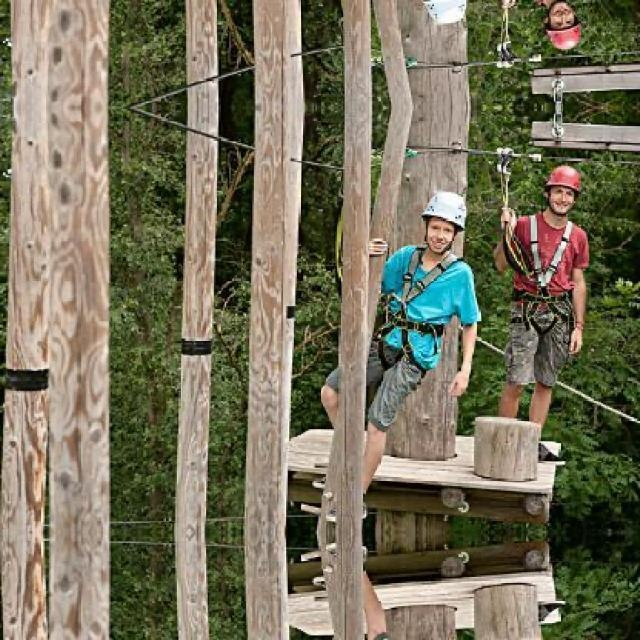Arnes_seguridad: (375, 245, 455, 369), (504, 214, 571, 335)
